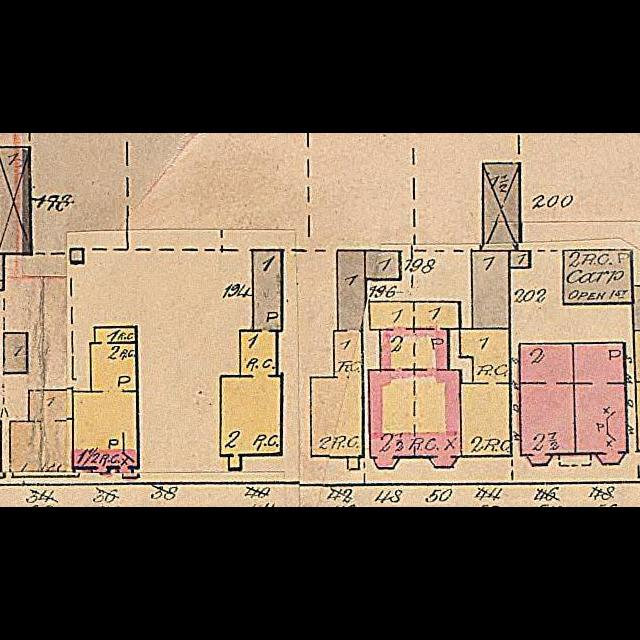building-footprints: (369, 302, 462, 468), (220, 250, 282, 470), (311, 250, 364, 456), (73, 327, 138, 467), (519, 344, 576, 465), (573, 343, 628, 464), (460, 329, 511, 457), (10, 390, 73, 477), (564, 251, 633, 303), (483, 163, 520, 250), (0, 147, 30, 254), (472, 251, 510, 329), (365, 251, 400, 279), (4, 333, 27, 373), (509, 251, 529, 268), (634, 286, 640, 331), (347, 456, 359, 470), (71, 249, 83, 262), (0, 281, 4, 290)
